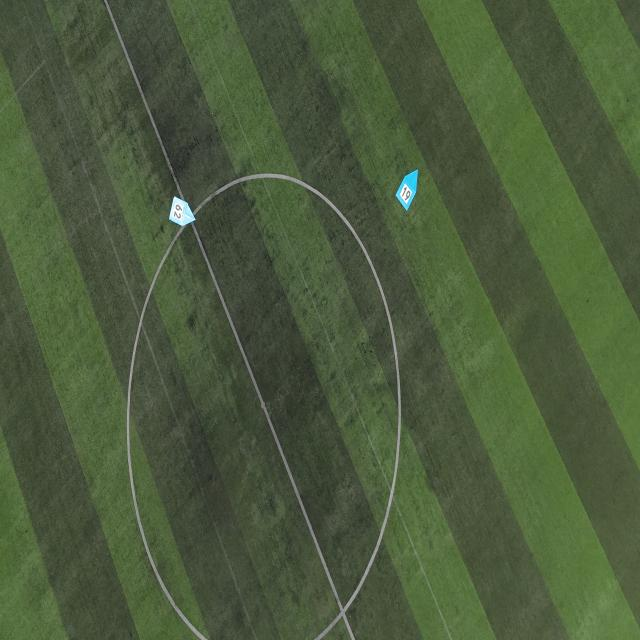board: (395, 168, 419, 212), (169, 196, 197, 226)
